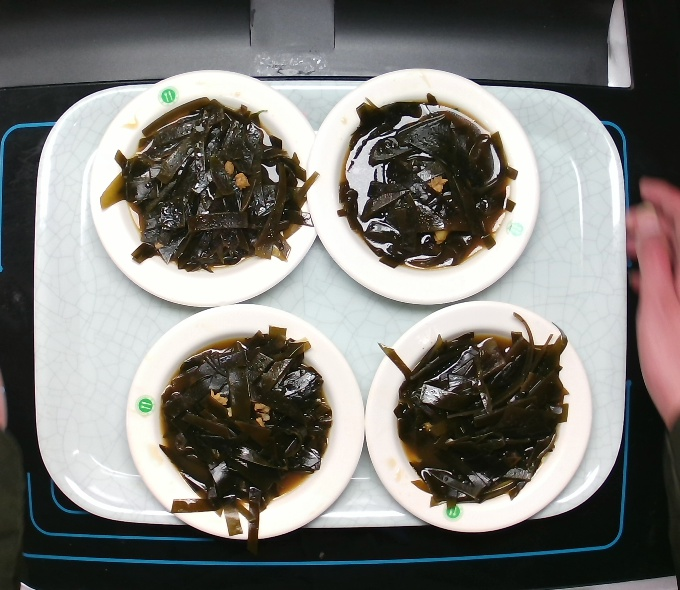wcq-HaiDai: (155, 325, 338, 541), (104, 97, 313, 275), (393, 327, 571, 516), (331, 90, 515, 269)
